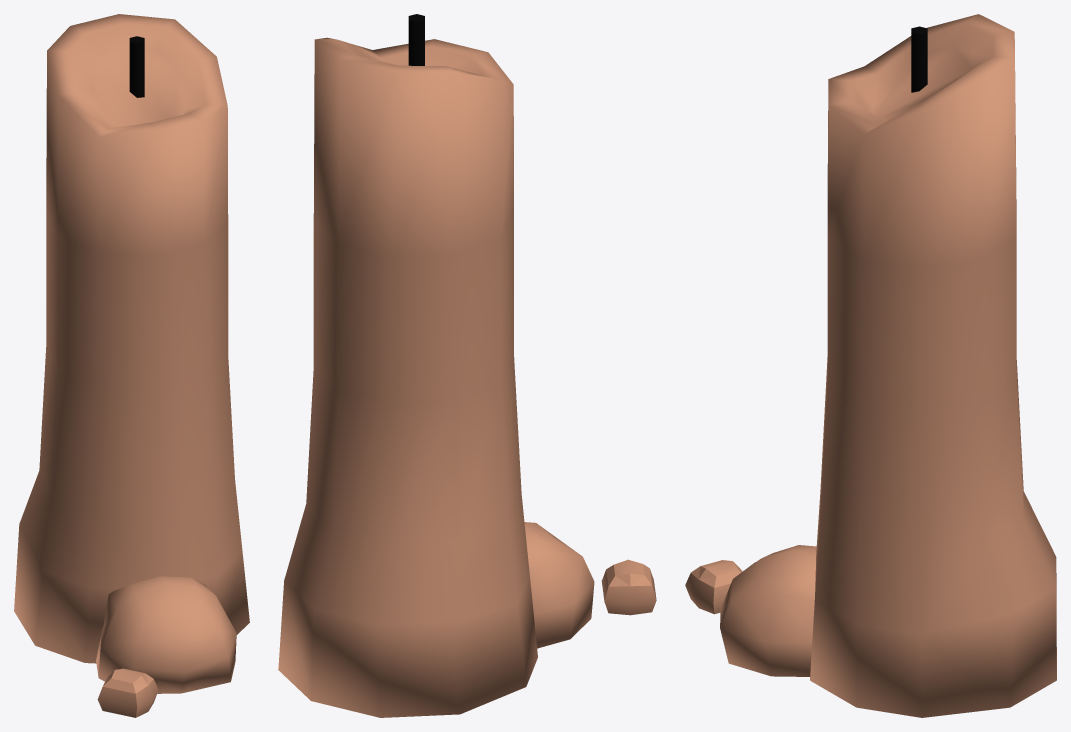
File: LongCandlel.fbx
The picture shows the model from 3 angles, left to right: view 1: azimuth 30°, elevation 25°; view 2: azimuth 150°, elevation 25°; view 3: azimuth 270°, elevation 25°; orthographic projection. The views are drawn at different scales.
Parts seen in each view (by area): view 1: CandleLong; view 2: CandleLong; view 3: CandleLong.
Boxes of the visible parts, left/top/right/bottom form: CandleLong: left=14, top=14, right=249, bottom=717; CandleLong: left=278, top=14, right=656, bottom=717; CandleLong: left=685, top=14, right=1056, bottom=717.
Bounding box in the file's own units: 4.18 × 10.02 × 5.33.
